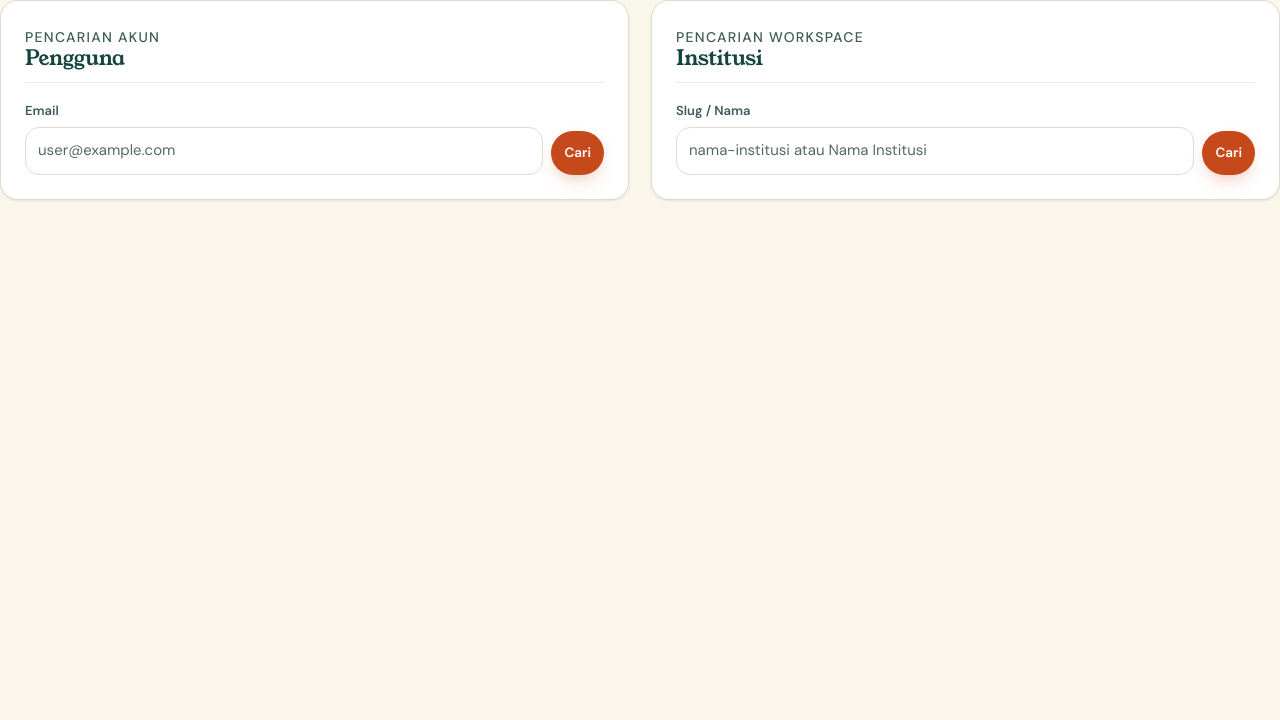
Test case: what the console tells the operator when a lookup or an institution action is refused › says no user matches the email, in the operator's words
The image size is (1280, 720).
In the field labelled "Email": (284, 151) [25,127,543,175], type "nobody@example.test"
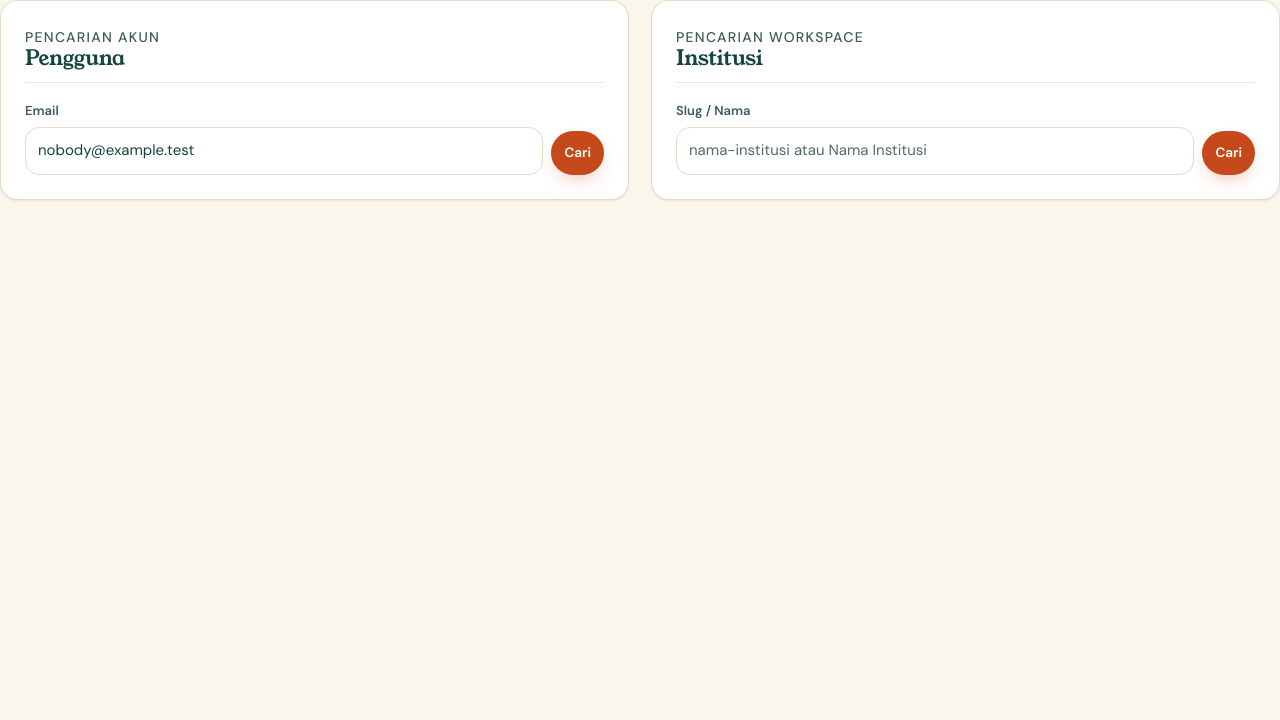
Click the 1st button "Cari": (578, 153) [551,131,604,175]
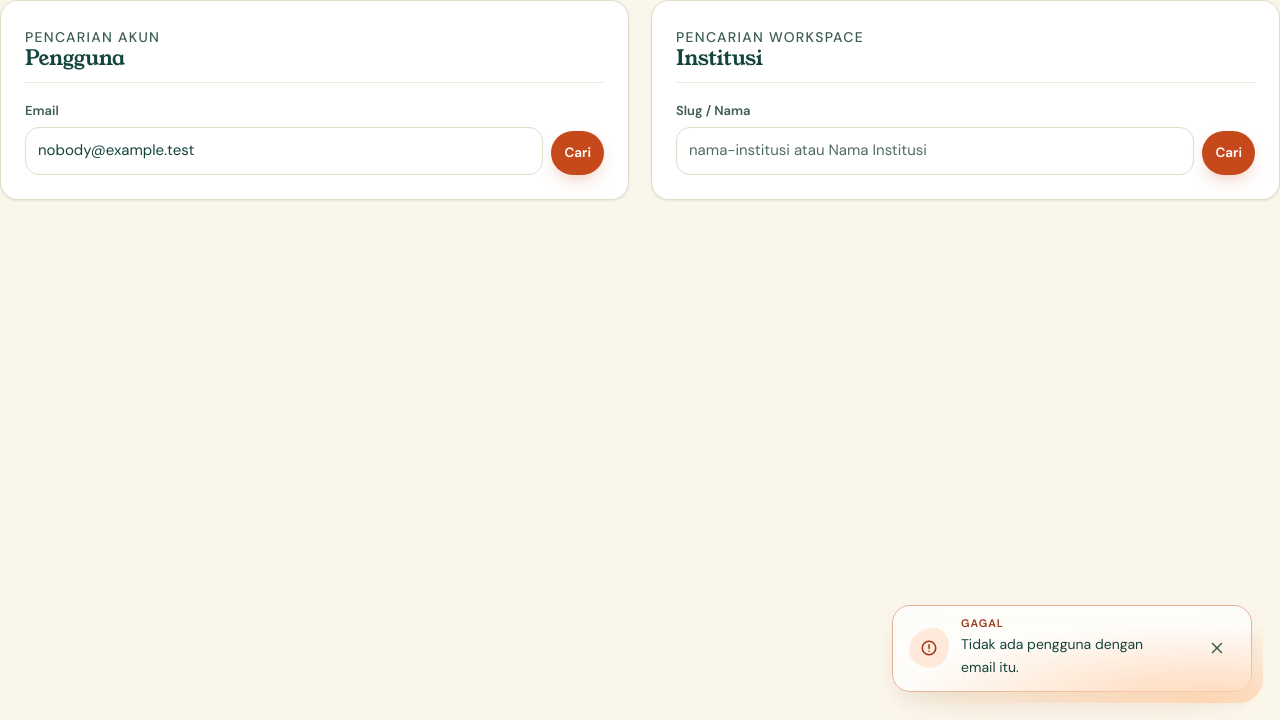
Expected: the text "Tidak ada pengguna dengan email itu." is shown, [961,635,1143,676]
